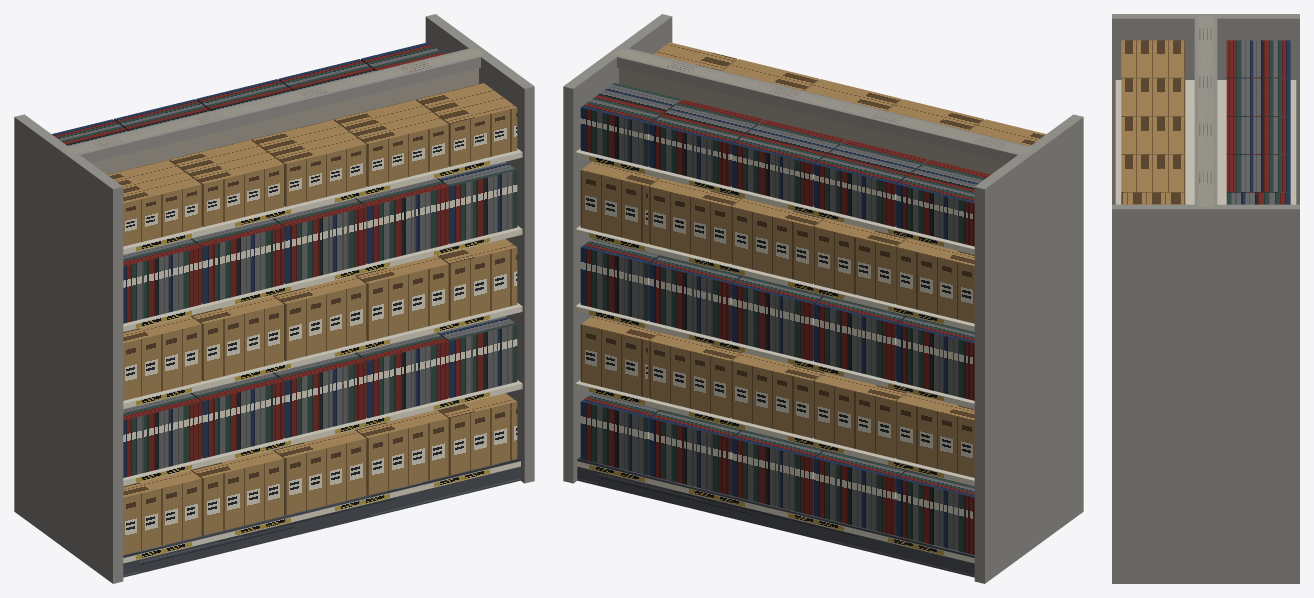
The model's file is COM_RecordsShelf.glb.
3 renders of one model, left to right at view 1: azimuth 30°, elevation 25°; view 2: azimuth 150°, elevation 25°; view 3: azimuth 270°, elevation 25°, orthographic. The views are drawn at different scales.
Visible parts, largest first — view 1: COM_RecordsShelf_Mesh; view 2: COM_RecordsShelf_Mesh; view 3: COM_RecordsShelf_Mesh.
Boxes of the visible parts, x1,y1,x2,y2 form: COM_RecordsShelf_Mesh: (14, 14, 534, 583); COM_RecordsShelf_Mesh: (563, 14, 1083, 583); COM_RecordsShelf_Mesh: (1112, 14, 1299, 583).
Size of what is drawn, in the model's own units: 2.46 by 2.2 by 1.
1 material, 1 textured.
